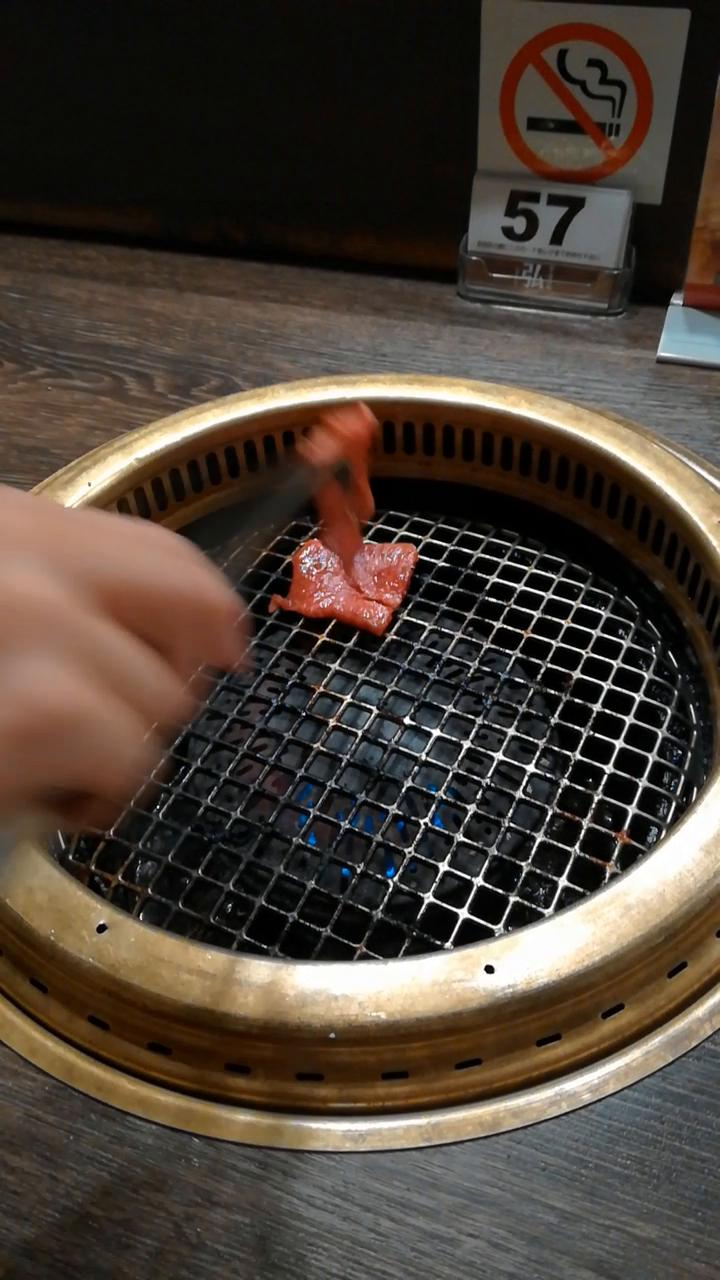raw_beaf: (261, 517, 431, 644)
